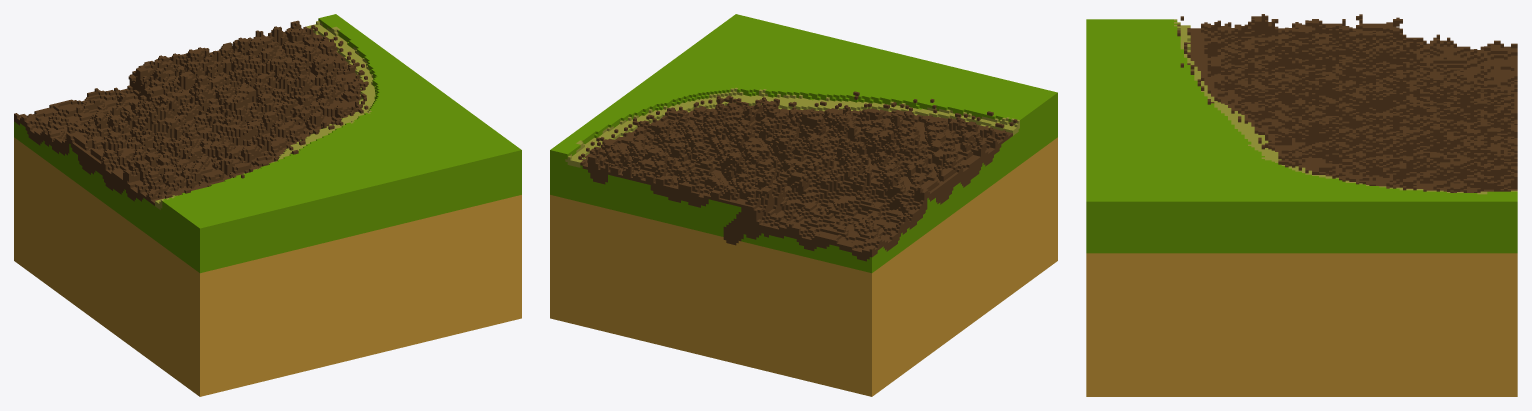
3 renders of one model, left to right at view 1: azimuth 30°, elevation 25°; view 2: azimuth 150°, elevation 25°; view 3: azimuth 270°, elevation 25°, orthographic. The views are drawn at different scales.
Visible parts, largest first — view 1: 4G; view 2: 4G; view 3: 4G.
Boxes of the visible parts, <box> form: 4G: <box>14,14,521,396</box>; 4G: <box>550,14,1057,396</box>; 4G: <box>1086,14,1517,396</box>.
Size of the model in its own units: 12.8 by 7.3 by 12.8.
Materials: 1 (1 with a texture image).
